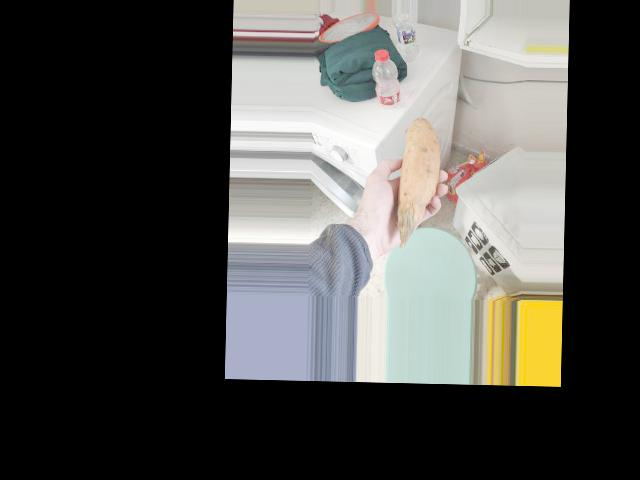sweet_potato: (393, 129, 441, 233)
